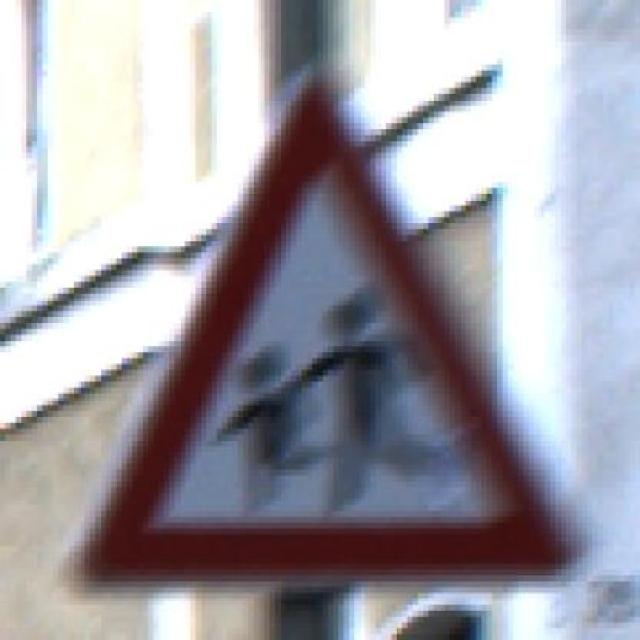Beware of children: (63, 64, 582, 593)
